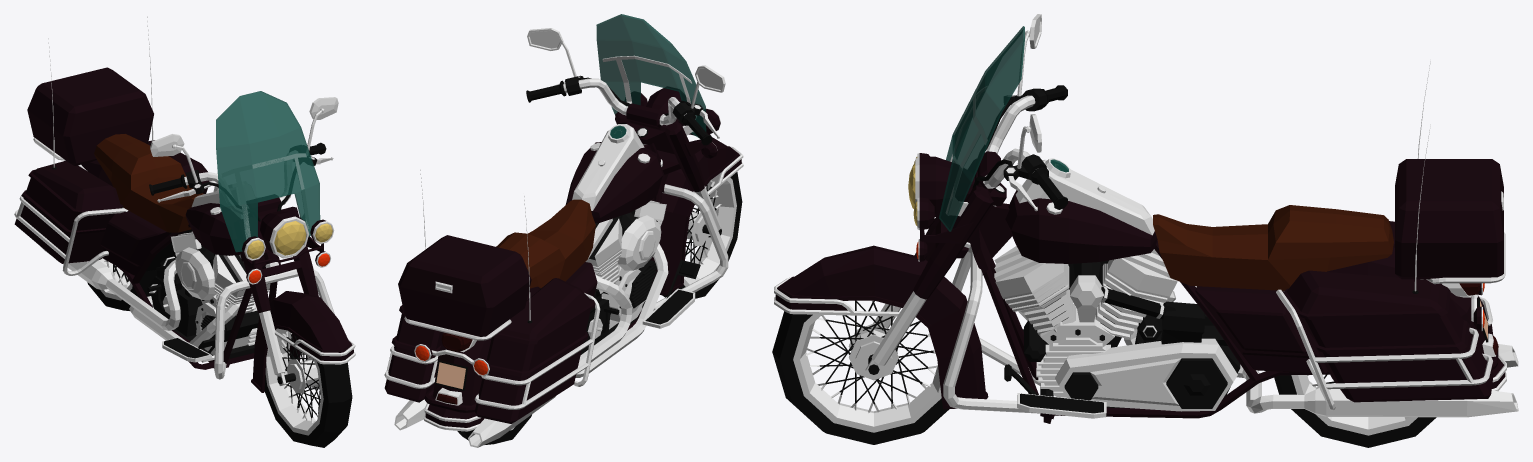
File: Motorcycle_05.FBX
3 renders of one model, left to right at view 1: azimuth 30°, elevation 25°; view 2: azimuth 150°, elevation 25°; view 3: azimuth 270°, elevation 25°, orthographic. The views are drawn at different scales.
Visible parts, largest first — view 1: Motorcycle_05, windshield, case, saddleBags, motor, wheel_f, saddle, mudguard, exhausts, steering, handlebars, lights-st (+4 smaller); view 2: Motorcycle_05, saddleBags, case, motor, windshield, saddle, exhausts, mudguard, wheel_f, handlebars, steering, lights-st (+6 smaller); view 3: Motorcycle_05, motor, saddleBags, saddle, case, wheel_f, mudguard, windshield, exhausts, steering, handlebars, wheel_b (+2 smaller).
Part boxes in pixels (bbox=[...]): Motorcycle_05: bbox=[14, 137, 334, 379]; windshield: bbox=[216, 91, 320, 252]; case: bbox=[27, 67, 153, 165]; saddleBags: bbox=[14, 140, 211, 263]; motor: bbox=[147, 231, 270, 362]; wheel_f: bbox=[264, 328, 352, 447]; saddle: bbox=[94, 134, 203, 232]; mudguard: bbox=[251, 291, 355, 392]; exhausts: bbox=[40, 246, 240, 347]; steering: bbox=[234, 206, 318, 385]; handlebars: bbox=[149, 142, 333, 221]; lights-st: bbox=[238, 211, 334, 284]; Motorcycle_05: bbox=[384, 124, 728, 431]; saddleBags: bbox=[384, 278, 595, 423]; case: bbox=[398, 235, 531, 336]; motor: bbox=[580, 200, 700, 354]; windshield: bbox=[596, 14, 706, 137]; saddle: bbox=[496, 199, 595, 288]; exhausts: bbox=[394, 243, 668, 447]; mudguard: bbox=[651, 137, 743, 295]; wheel_f: bbox=[662, 172, 742, 298]; handlebars: bbox=[526, 75, 719, 145]; steering: bbox=[615, 111, 721, 235]; lights-st: bbox=[625, 87, 720, 158]; Motorcycle_05: bbox=[943, 160, 1506, 423]; motor: bbox=[994, 246, 1240, 411]; saddleBags: bbox=[1283, 221, 1493, 402]; saddle: bbox=[1153, 205, 1393, 290]; case: bbox=[1395, 159, 1503, 279]; wheel_f: bbox=[772, 300, 949, 444]; mudguard: bbox=[774, 245, 988, 409]; windshield: bbox=[939, 26, 1024, 231]; exhausts: bbox=[1018, 291, 1518, 417]; steering: bbox=[865, 160, 1006, 377]; handlebars: bbox=[972, 85, 1067, 211]; wheel_b: bbox=[1274, 374, 1436, 447].
Bounding box in the file's own units: 11.44 × 17.97 × 29.51.
